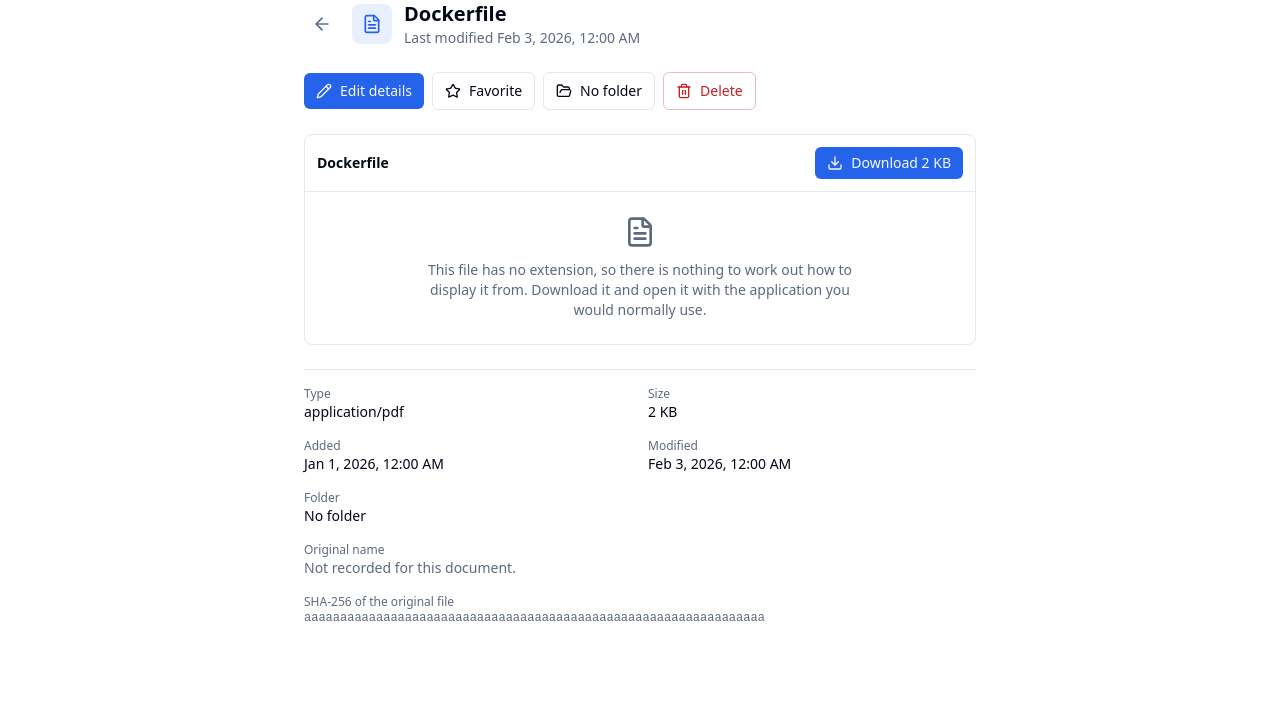
Scenario: DocumentDetail — editing name, tags and note › refuses a dot typed into a name that has no extension, sending nothing
Click the button "Edit details".
click(364, 91)  # box [304,73,424,109]
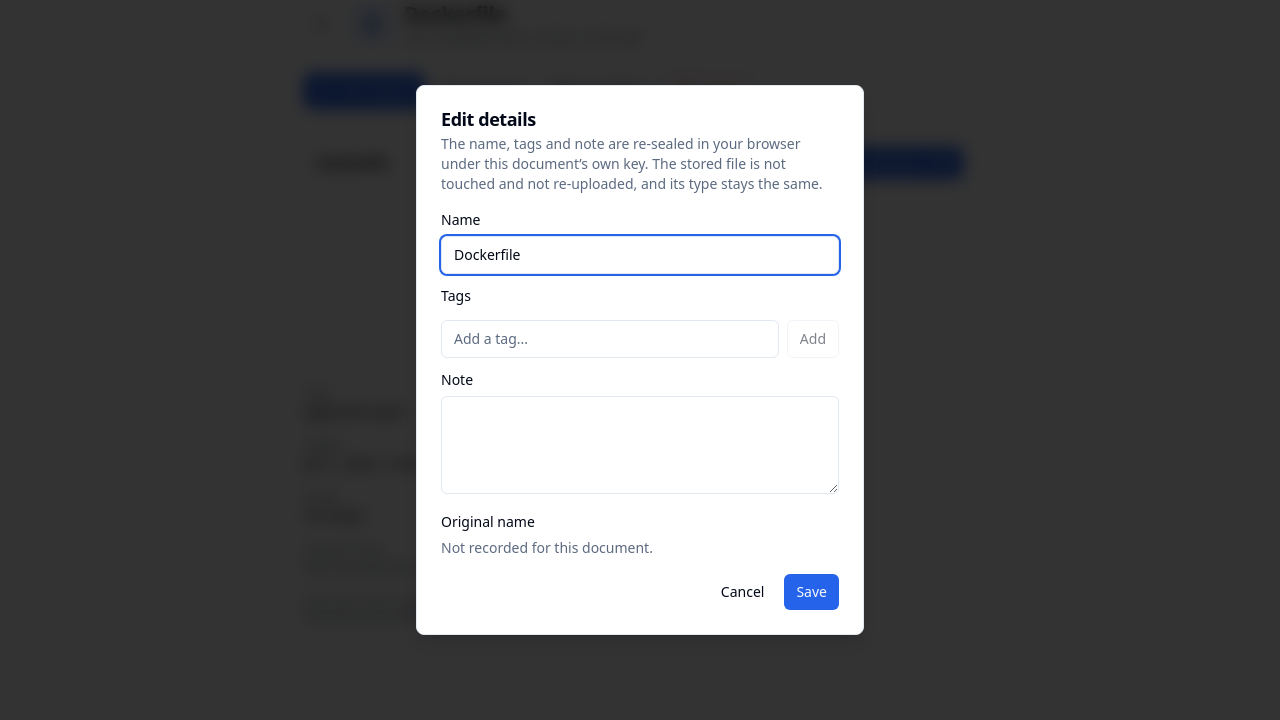
Replace the text in the field labelled "Name" with "Docker.file" at (640, 255), box [441,236,839,274]
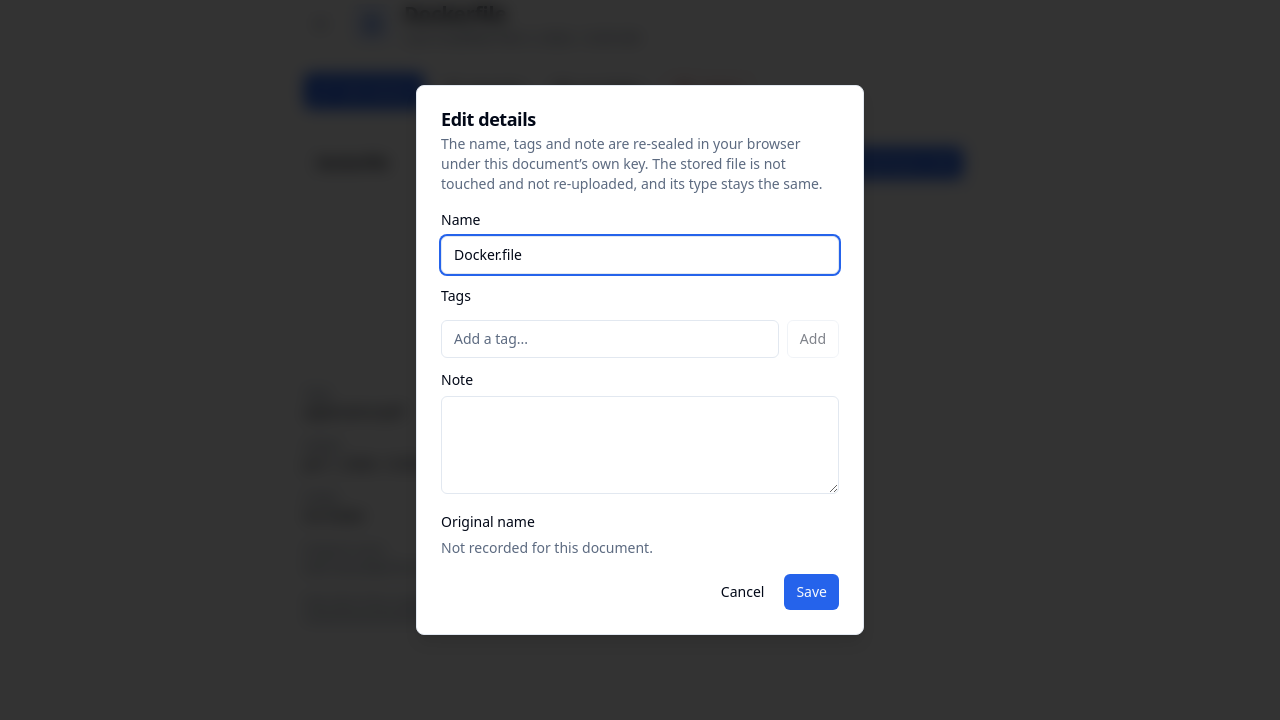
Click the button "Save".
click(812, 592)  # box [784,574,839,610]
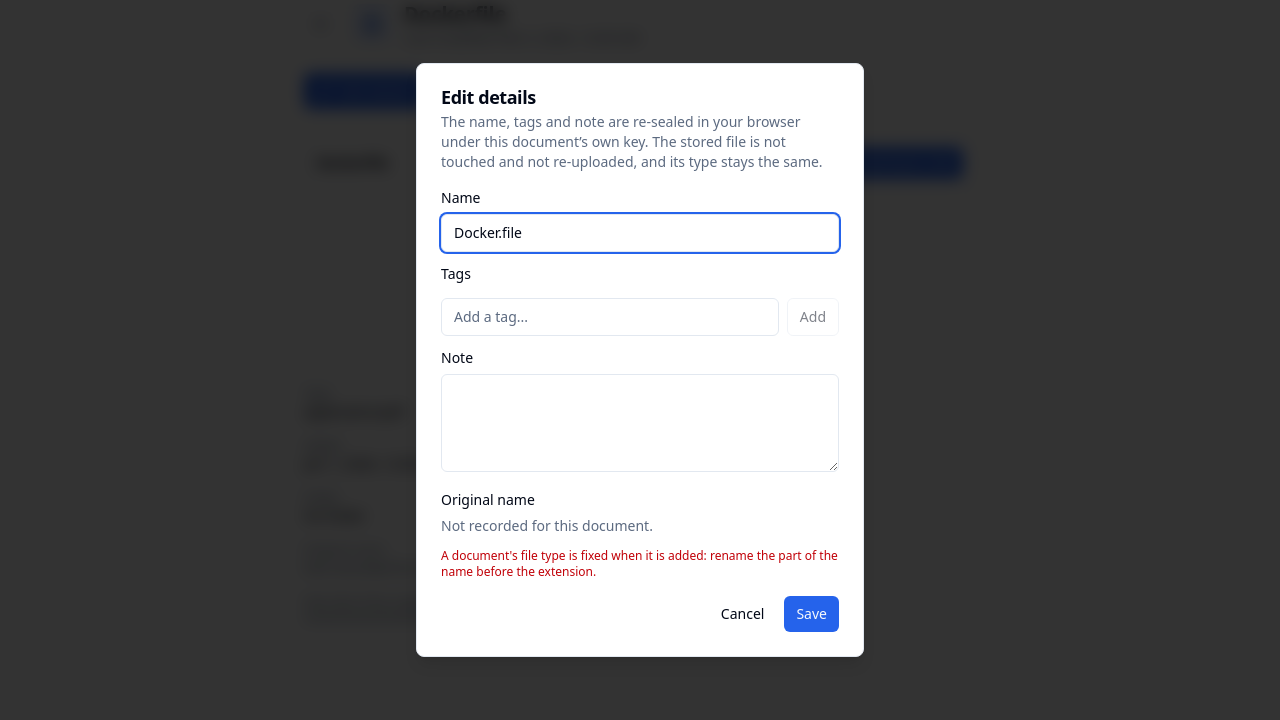
Result: the dialog is shown at [416,63,864,657]
Result: the message with test id "document-edit-refusal" shows "A document's file type is fixed when it is added: rename the part of the name before the extension." at [441,547,838,580]
